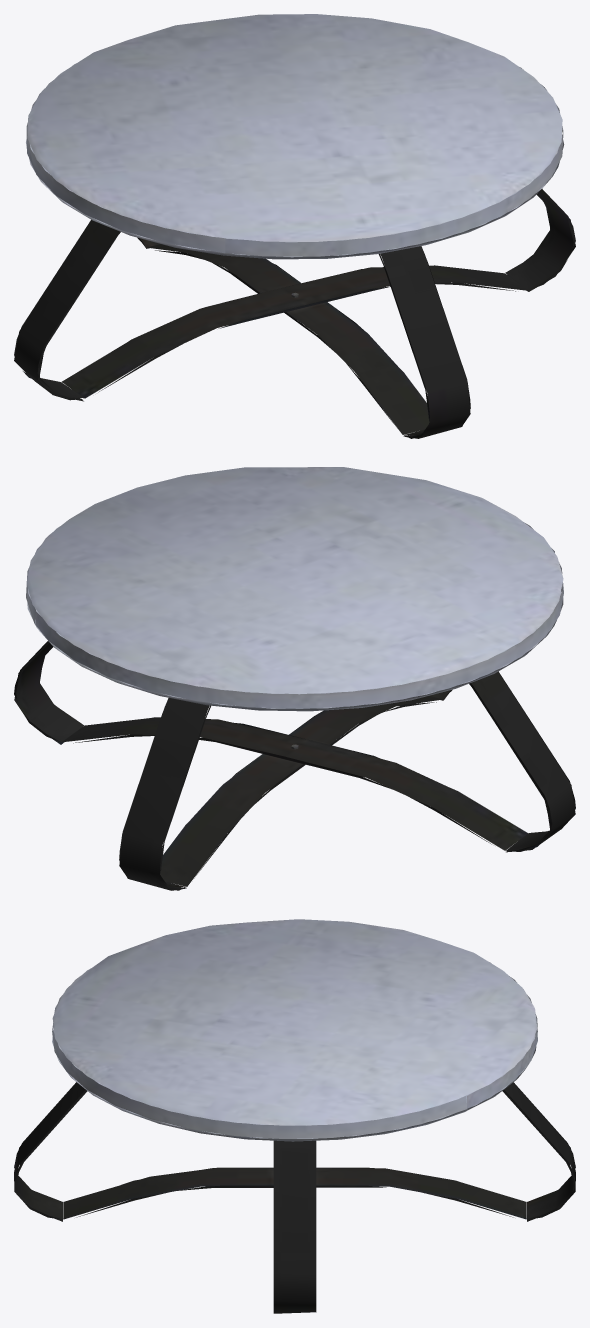
File: coffee_table_round_01.glb
3 renders of one model, top to bottom at view 1: azimuth 30°, elevation 25°; view 2: azimuth 150°, elevation 25°; view 3: azimuth 270°, elevation 25°, orthographic. The views are drawn at different scales.
Parts seen in each view (by area): view 1: coffee_table_round_01; view 2: coffee_table_round_01; view 3: coffee_table_round_01.
Part boxes in pixels (left/top/right/bottom): coffee_table_round_01: left=14, top=14, right=575, bottom=438; coffee_table_round_01: left=14, top=467, right=575, bottom=890; coffee_table_round_01: left=14, top=919, right=575, bottom=1313.
Bounding box in the file's own units: 1.3 × 0.4931 × 1.3.
Materials: 1 (1 with a texture image).
